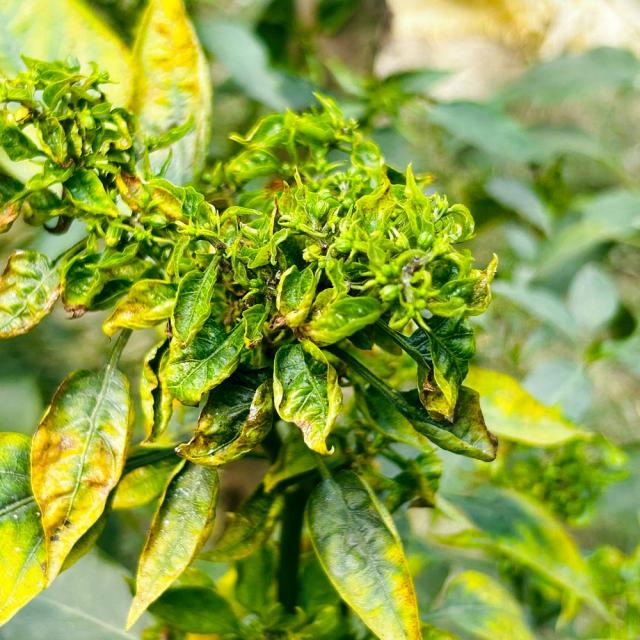Chilli_Leaf_Curl: (1, 52, 502, 637), (146, 92, 500, 469), (0, 0, 212, 209), (0, 364, 136, 626), (0, 52, 136, 233), (303, 466, 423, 639), (124, 460, 220, 632), (271, 339, 343, 455)
